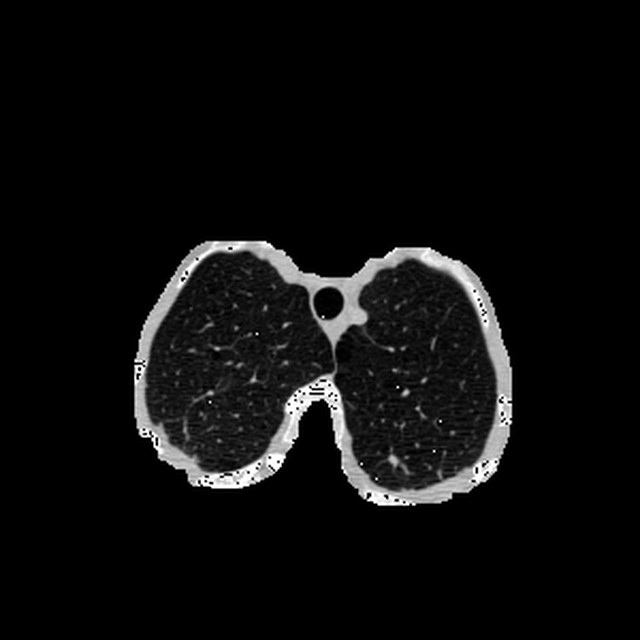PN: (388, 454, 397, 463)
